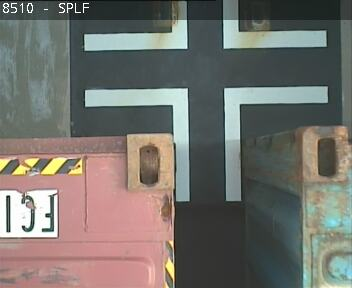groundmarker_1: (84, 85, 328, 200), (83, 1, 327, 51)
